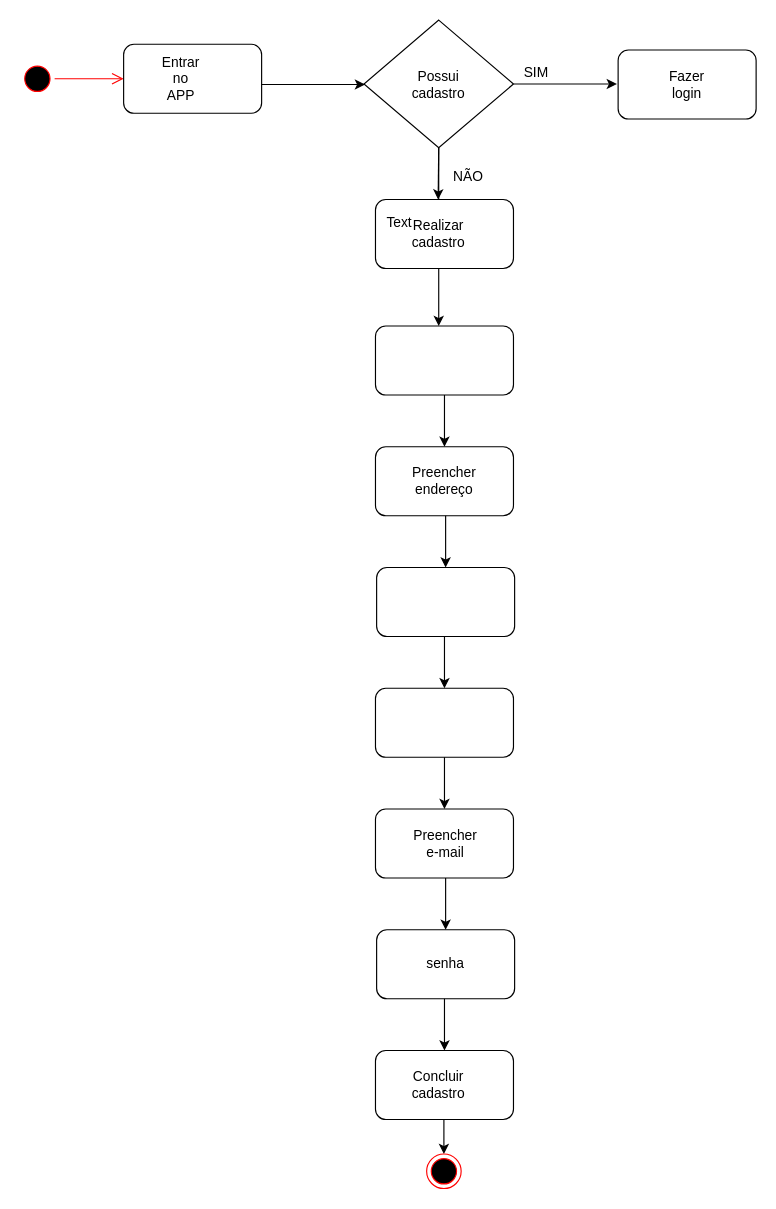
Some shapes in this 776 by 1209 pixel diagram are drawn without their labels. The shapes that lost their labels are listed below. From the top down, each one's centre as x and y in pixels, then its label:
At [443,360]: "Preencher nome completo".
At [445,601]: "Preencher idade".
At [443,722]: "Preencher telefone".
